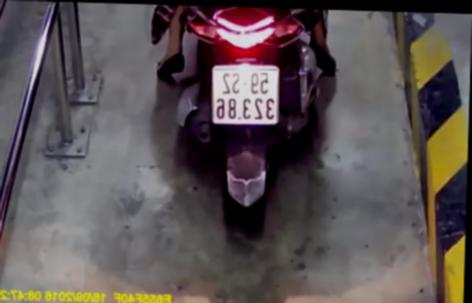License_Plate: (206, 62, 285, 131)
